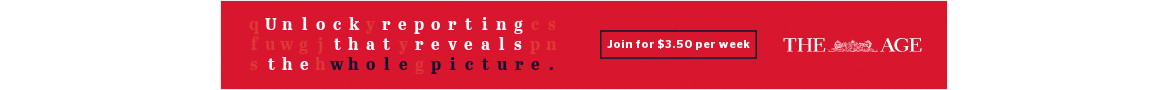fake_button: (586, 25, 773, 75)
